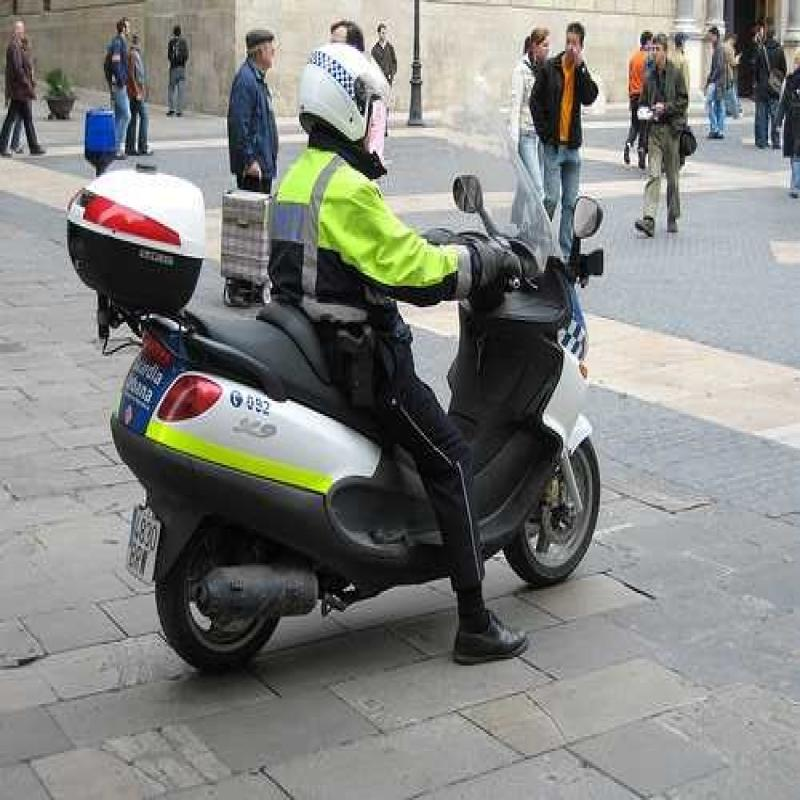bike: (100, 159, 631, 659)
